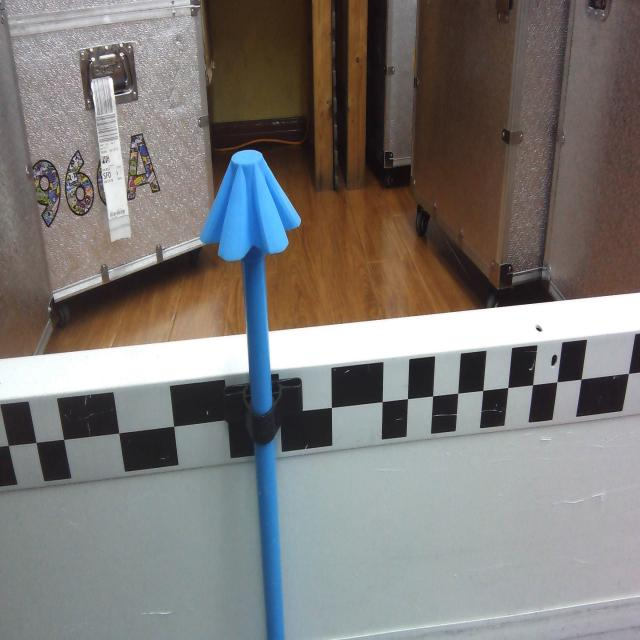zblue-Stake-Head: (200, 150, 302, 262)
